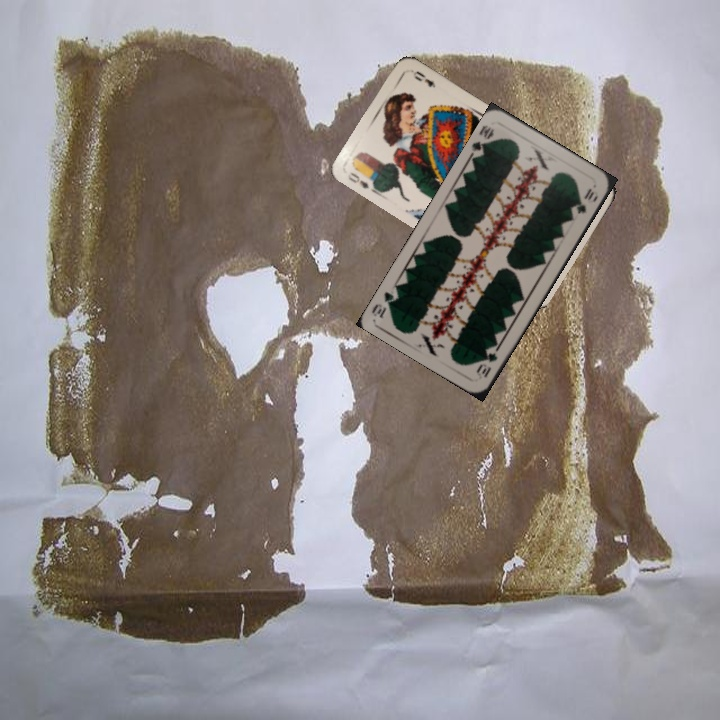EO: (344, 168, 379, 195)
G10: (468, 120, 497, 160), (473, 348, 500, 380)
